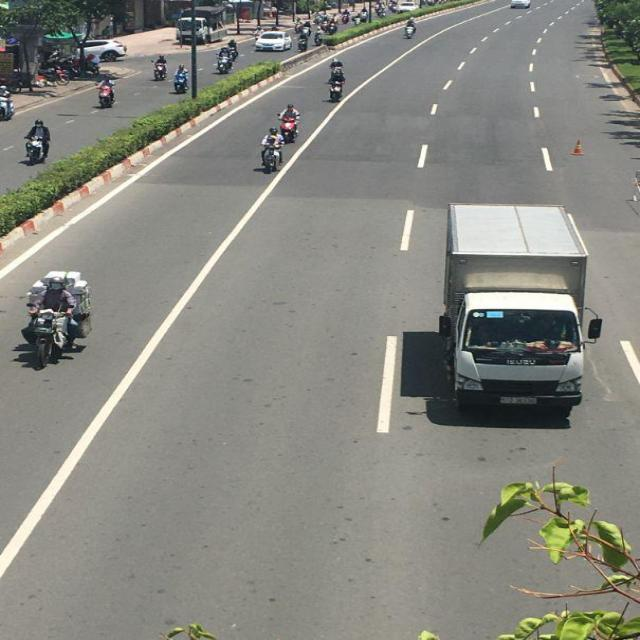car: (81, 40, 126, 64), (254, 31, 290, 53), (511, 0, 532, 10)
motorcycle: (259, 131, 284, 175), (24, 132, 50, 166), (327, 66, 347, 101), (98, 80, 114, 107), (154, 56, 168, 80)
truck: (439, 200, 593, 423), (176, 4, 228, 46)
